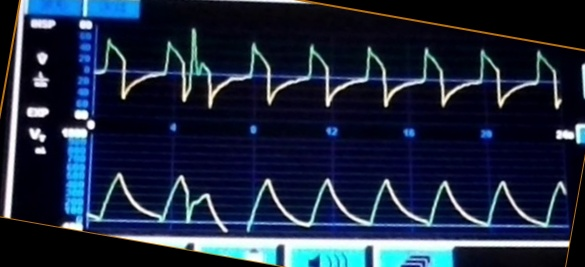Double_Triggering Flow: (98, 28, 504, 113)
Double_Triggering Volume: (89, 165, 504, 233)
